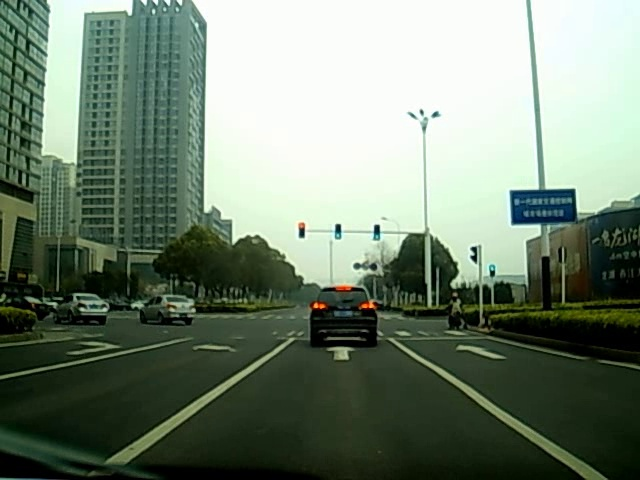Traffic_Light_go: (374, 225, 381, 242), (334, 225, 341, 241)
Traffic_Light_stop: (298, 222, 305, 239)
